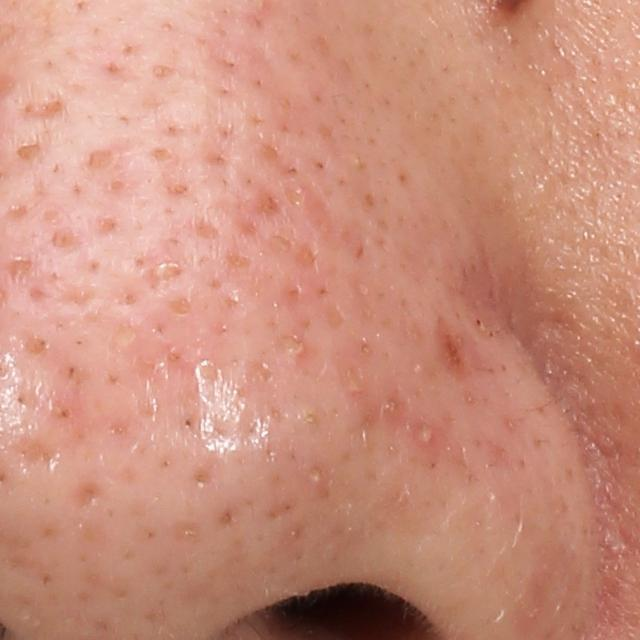atrophic_scar: (6, 431, 66, 480), (144, 233, 190, 296), (12, 84, 65, 124), (66, 478, 101, 522)
pustule: (415, 422, 444, 449)
